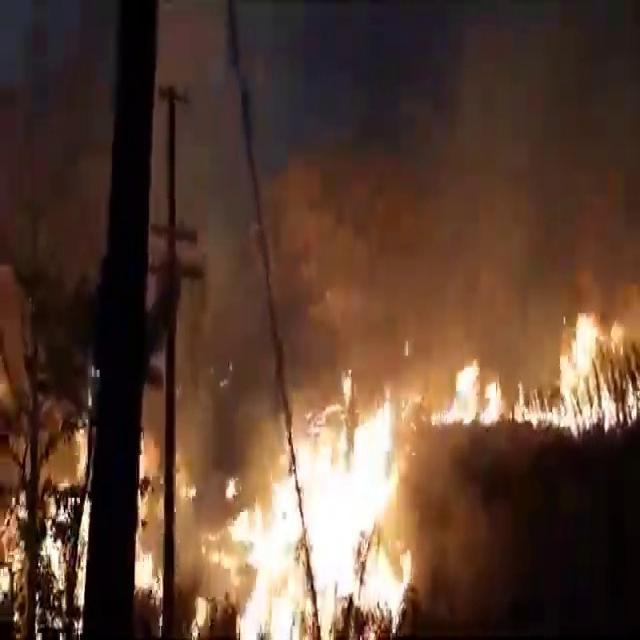Fire: (234, 384, 405, 634), (431, 314, 634, 436), (132, 436, 163, 592)
Smoke: (155, 12, 639, 319), (5, 27, 109, 380), (438, 480, 510, 640)
